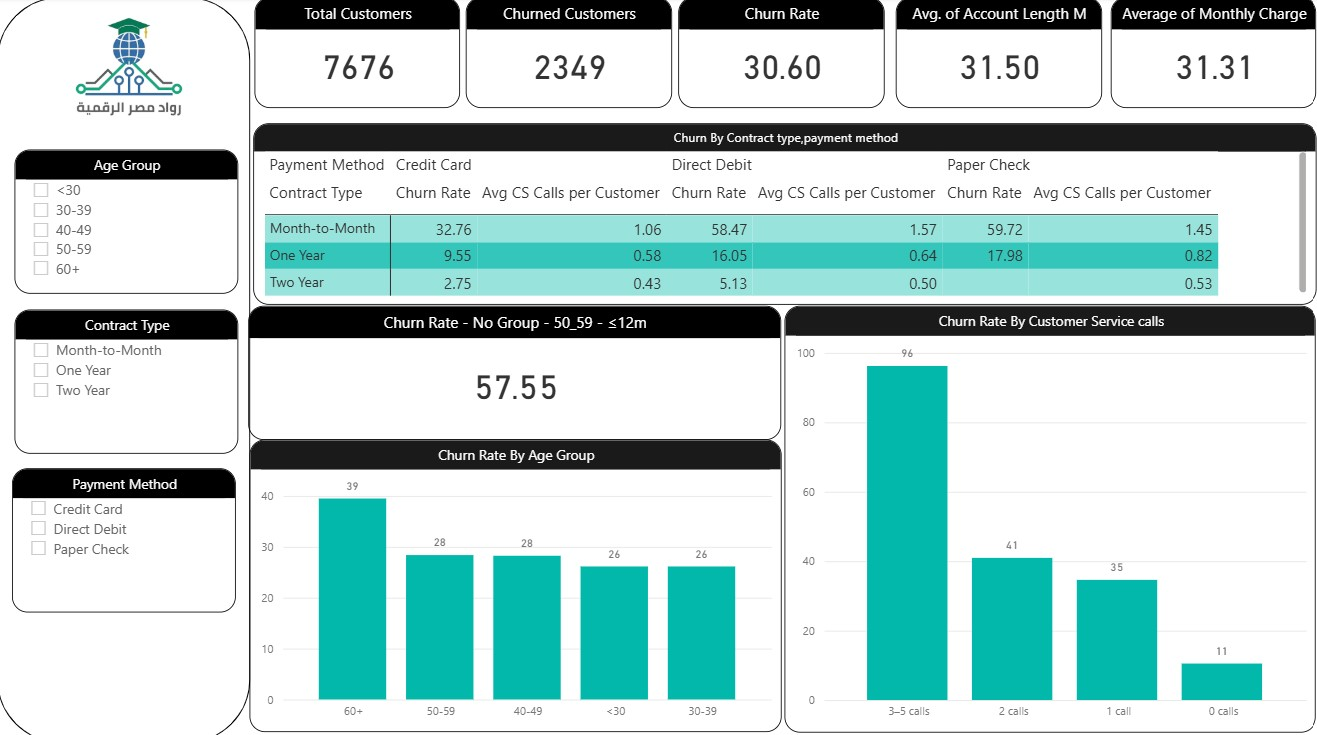

The dashboard page shown, as its layout file describes it:
{"tool":"powerbi","page":{"name":"Page 3","canvas":[1280,720],"ordinal":3},"visuals":[{"type":"card","title":"Total Customers","fields":{"Values":["Table of measures.Total Customers"]},"box":[248.1,0,198.8,107.4],"z":0},{"type":"card","title":"Churned Customers","fields":{"Values":["Table of measures.Churned Customers"]},"box":[452.3,0,198.9,107.6],"z":1000},{"type":"card","title":"Churn Rate","fields":{"Values":["Table of measures.Churn Rate"]},"box":[657.9,0,198.9,107.6],"z":2000},{"type":"card","title":"Avg. of Account Length M","fields":{"Values":["Avg(SkyLink - Dataset.Account Length (in months))"]},"box":[867.8,0,198.9,107.6],"z":3000},{"type":"card","title":"Average of Monthly Charge","fields":{"Values":["Avg(SkyLink - Dataset.Monthly Charge)"]},"box":[1075.5,0,198.9,107.6],"z":4000},{"type":"shape","box":[0,0,244.4,719.8],"z":5000},{"type":"clusteredColumnChart","title":"Churn Rate By Age Group","fields":{"Y":["Table of measures.Churn Rate"],"Category":["SkyLink - Dataset.Age Group"]},"box":[243.2,427.2,513.6,282.7],"z":6000},{"type":"card","title":"Churn Rate - No Group - 50_59 - ≤12m","fields":{"Values":["Table of measures.Churn Rate - No Group - 50_59 - ≤12m"]},"box":[243.1,297.6,514.2,129.7],"z":7000},{"type":"clusteredColumnChart","title":"Churn Rate By Customer Service calls","fields":{"Category":["SkyLink - Dataset.CS Calls Band"],"Y":["Table of measures.Churn Rate"]},"box":[760.5,297.5,513.6,412.3],"z":8000},{"type":"pivotTable","title":"Churn By Contract type,payment method","fields":{"Rows":["SkyLink - Dataset.Contract Type"],"Columns":["SkyLink - Dataset.Payment Method"],"Values":["Table of measures.Churn Rate","Table of measures.Avg CS Calls per Customer"]},"box":[247.5,122.3,1026.9,175.3],"z":9000},{"type":"image","box":[29.6,0,191.4,146.9],"z":10000},{"type":"slicer","title":"Age Group","fields":{"Values":["SkyLink - Dataset.Age Group"]},"box":[17.3,146.9,216.1,139.5],"z":11000},{"type":"slicer","title":"Contract Type","fields":{"Values":["SkyLink - Dataset.Contract Type"]},"box":[17.3,301.2,216.1,139.5],"z":12000},{"type":"slicer","title":"Payment Method","fields":{"Values":["SkyLink - Dataset.Payment Method"]},"box":[14.8,454.3,216.1,139.5],"z":13000}]}

Visuals, with their boxes in screenshot pixels (x1, y1, x2, y2), scaled from the page's 1280x720 canvas onto the 1317x735 screenshot:
"Total Customers" card: Rect(255, 0, 460, 110)
"Churned Customers" card: Rect(465, 0, 670, 110)
"Churn Rate" card: Rect(677, 0, 882, 110)
"Avg. of Account Length M" card: Rect(893, 0, 1098, 110)
"Average of Monthly Charge" card: Rect(1107, 0, 1311, 110)
shape: Rect(0, 0, 251, 734)
"Churn Rate By Age Group" clusteredColumnChart: Rect(250, 436, 779, 725)
"Churn Rate - No Group - 50_59 - ≤12m" card: Rect(250, 304, 779, 436)
"Churn Rate By Customer Service calls" clusteredColumnChart: Rect(782, 304, 1311, 725)
"Churn By Contract type,payment method" pivotTable: Rect(255, 125, 1311, 304)
image: Rect(30, 0, 227, 150)
"Age Group" slicer: Rect(18, 150, 240, 292)
"Contract Type" slicer: Rect(18, 307, 240, 450)
"Payment Method" slicer: Rect(15, 464, 238, 606)
